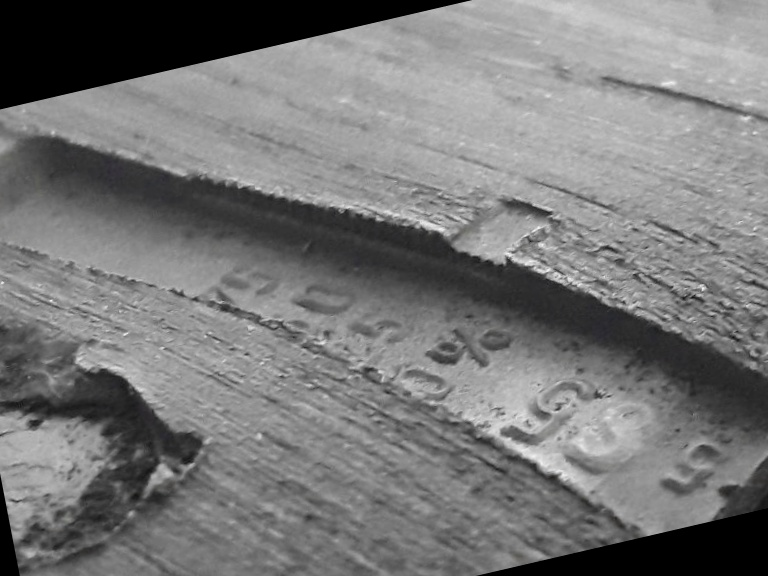temoin:0: (397, 156, 581, 313)
